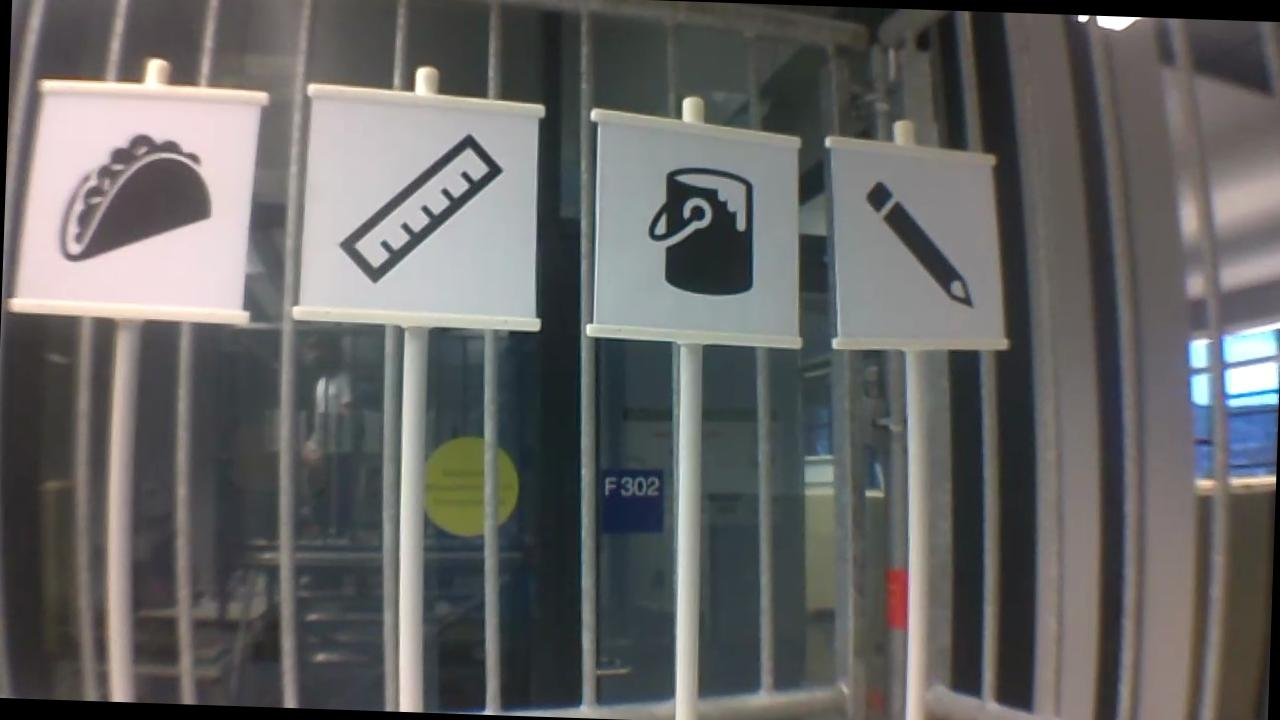bucket: (641, 163, 762, 303)
pencil: (851, 175, 982, 314)
ruler: (329, 123, 506, 296)
taco: (53, 122, 221, 270)
